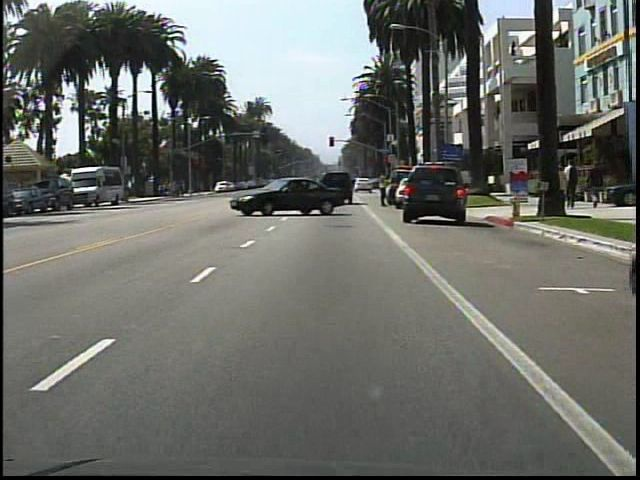person: (586, 155, 608, 209), (563, 159, 581, 212), (377, 171, 393, 211), (559, 163, 566, 211)
